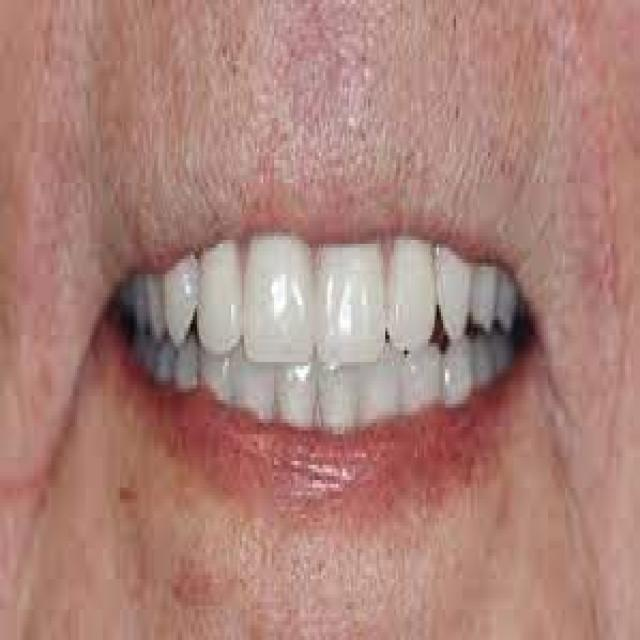tooth: (246, 232, 319, 358), (319, 248, 379, 358), (385, 248, 441, 346), (265, 351, 317, 426), (199, 244, 240, 339), (435, 248, 473, 339), (349, 358, 402, 415), (312, 362, 356, 430), (439, 343, 473, 419), (402, 347, 439, 415), (231, 366, 272, 426), (167, 263, 199, 335), (497, 263, 520, 335), (201, 350, 231, 400), (171, 339, 197, 392), (469, 270, 494, 324), (131, 328, 154, 384), (490, 328, 512, 377), (148, 263, 162, 339), (473, 331, 492, 385), (130, 278, 150, 328), (152, 350, 175, 385)
